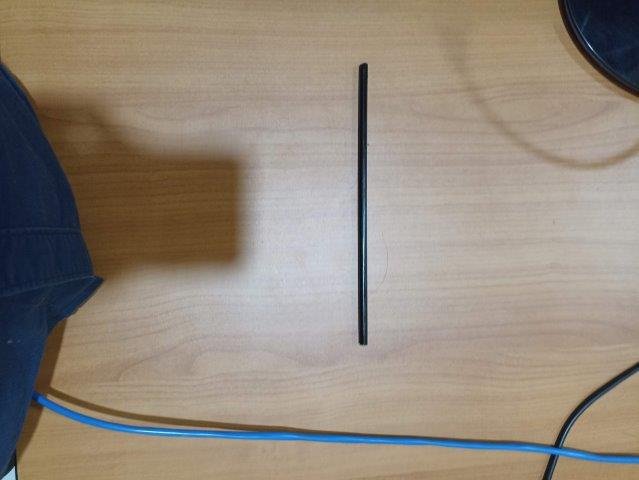sedotan: (357, 64, 368, 346)
